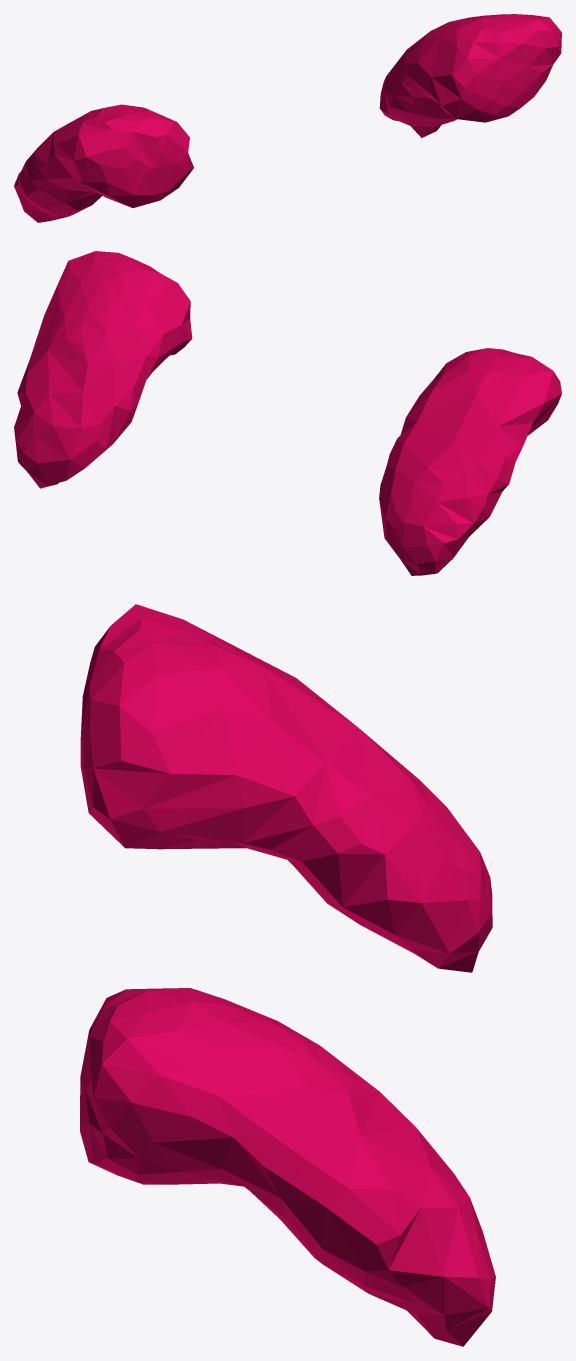
Rendered from 209-13a-area 13a of cortex-('1.0000', '0.0000', '0.4196').obj.
The picture shows the model from 3 angles, top to bottom: view 1: azimuth 30°, elevation 25°; view 2: azimuth 150°, elevation 25°; view 3: azimuth 270°, elevation 25°; orthographic projection. The views are drawn at different scales.
Bounding box in the file's own units: 102 × 33.75 × 37.71.
